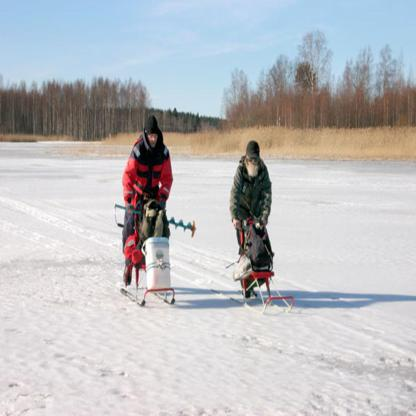face: (249, 153, 259, 172), (149, 132, 158, 148)
